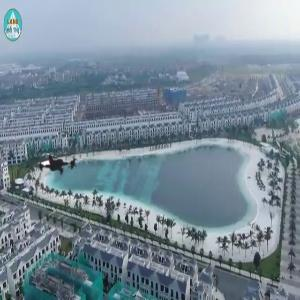drone: (28, 131, 90, 193)
